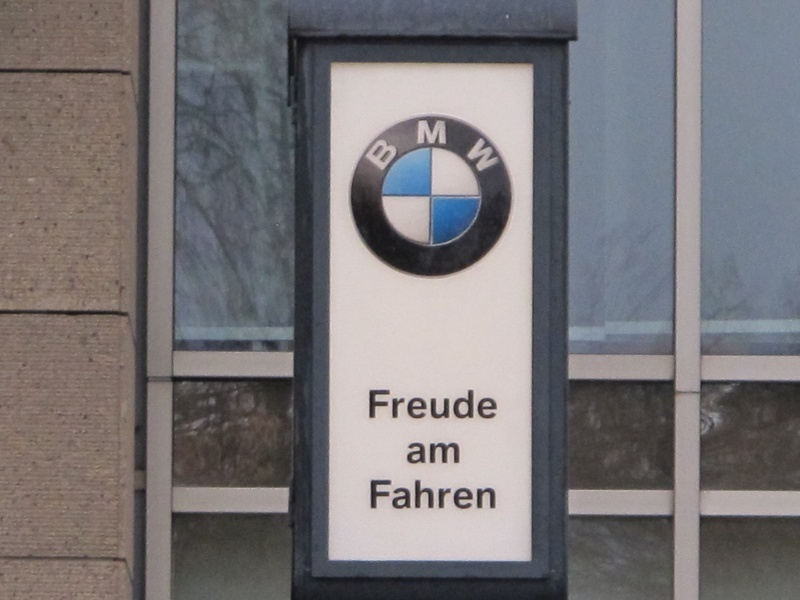text: (465, 136, 480, 173), (481, 136, 496, 173), (385, 136, 400, 172), (385, 479, 400, 510), (401, 479, 416, 510), (417, 479, 432, 510), (433, 479, 448, 510), (449, 479, 464, 510), (465, 479, 480, 510), (481, 479, 496, 510), (369, 389, 384, 419), (385, 389, 400, 419), (401, 389, 416, 419), (417, 389, 432, 419), (433, 389, 448, 419), (449, 389, 464, 419), (465, 389, 480, 419), (481, 389, 496, 419), (370, 479, 384, 510), (433, 120, 448, 146), (418, 120, 432, 146), (417, 442, 432, 465), (433, 442, 448, 465), (449, 442, 460, 465), (497, 136, 503, 173), (408, 442, 416, 465), (381, 136, 384, 172), (401, 136, 402, 172), (497, 389, 498, 419)
